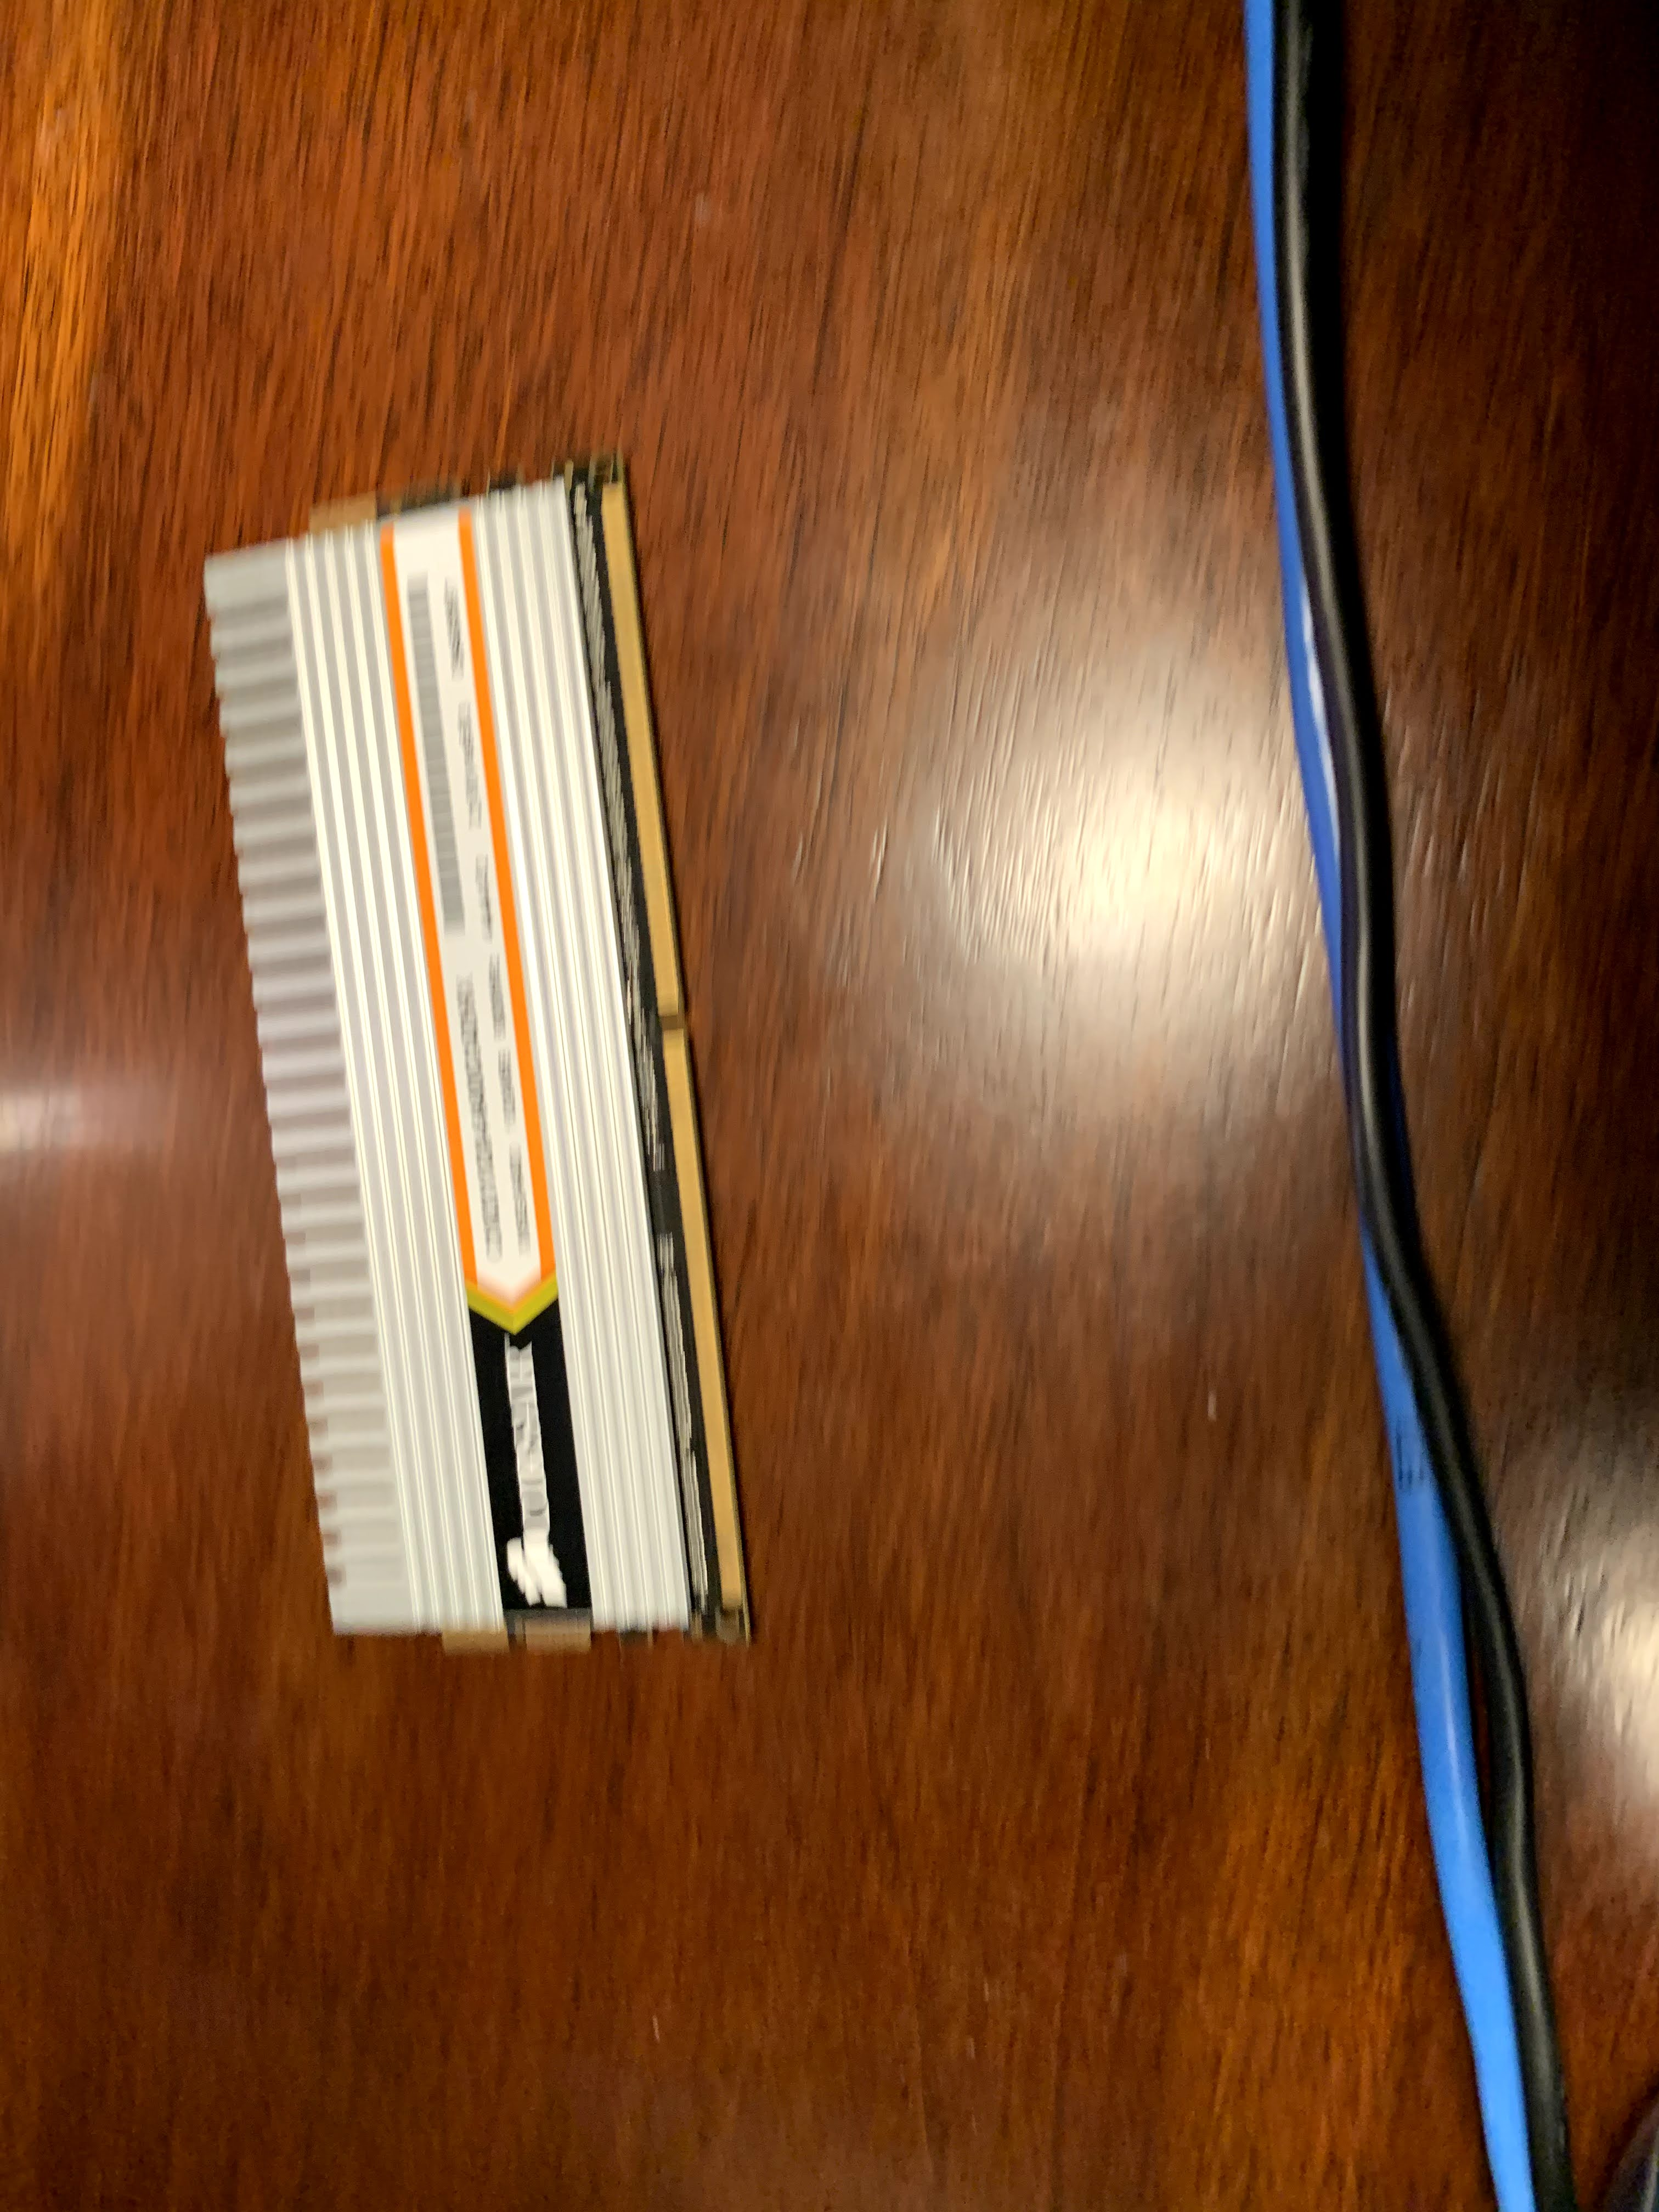Space-debris-medium: (181, 442, 796, 1700)
